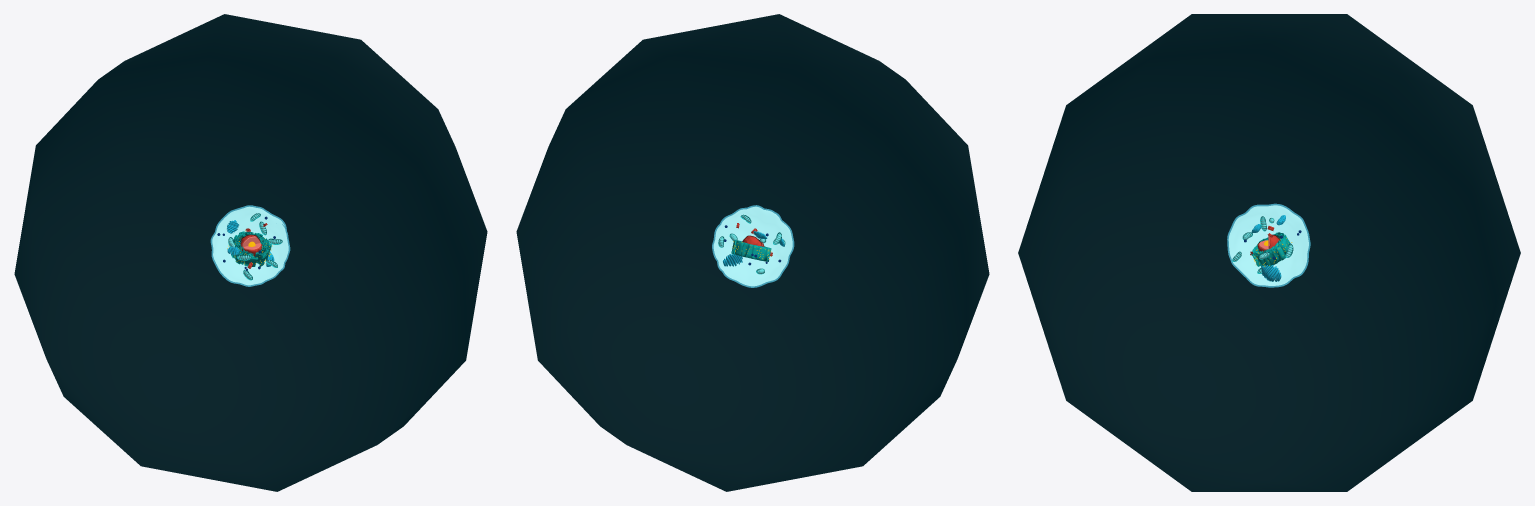
The model's file is biocell-1.glb.
3 renders of one model, left to right at view 1: azimuth 30°, elevation 25°; view 2: azimuth 150°, elevation 25°; view 3: azimuth 270°, elevation 25°, orthographic. The views are drawn at different scales.
Parts seen in each view (by area): view 1: Icosphere, CELL, Plane.006; view 2: Icosphere, CELL, Plane.006; view 3: Icosphere, CELL, Plane.006.
Boxes of the visible parts, bbox=[...] form: Icosphere: bbox=[14, 14, 487, 491]; CELL: bbox=[210, 205, 290, 286]; Plane.006: bbox=[229, 231, 271, 266]; Icosphere: bbox=[516, 14, 989, 491]; CELL: bbox=[712, 205, 794, 287]; Plane.006: bbox=[731, 240, 771, 261]; Icosphere: bbox=[1018, 14, 1520, 491]; CELL: bbox=[1227, 203, 1310, 287]; Plane.006: bbox=[1251, 232, 1289, 266].
Size of the model in its own units: 9.78 by 10.29 by 10.29.
